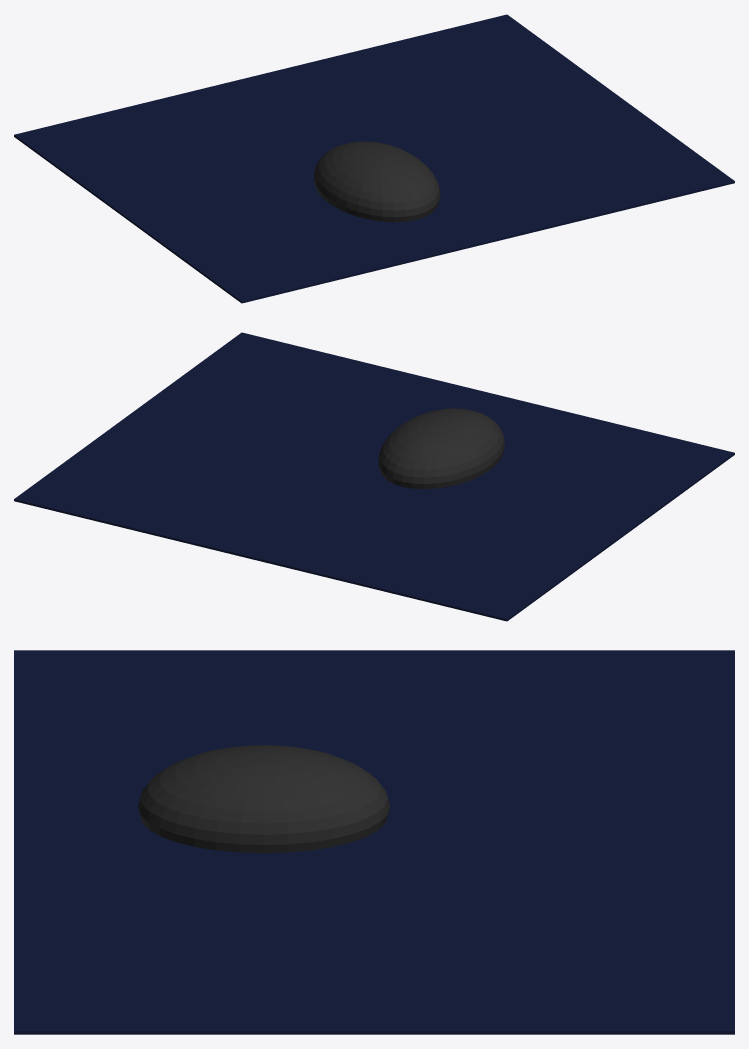
Rendered from mouse.glb.
3 renders of one model, top to bottom at view 1: azimuth 30°, elevation 25°; view 2: azimuth 150°, elevation 25°; view 3: azimuth 270°, elevation 25°, orthographic. The views are drawn at different scales.
Visible parts, largest first — view 1: Cube.003, Sphere; view 2: Cube.003, Sphere; view 3: Cube.003, Sphere.
Boxes of the visible parts, bbox=[...] form: Cube.003: bbox=[14, 14, 734, 303]; Sphere: bbox=[314, 141, 440, 222]; Cube.003: bbox=[14, 332, 734, 621]; Sphere: bbox=[378, 408, 504, 489]; Cube.003: bbox=[14, 650, 734, 1034]; Sphere: bbox=[138, 745, 389, 853].
Size of the model in its own units: 0.25 by 0.03 by 0.2.
